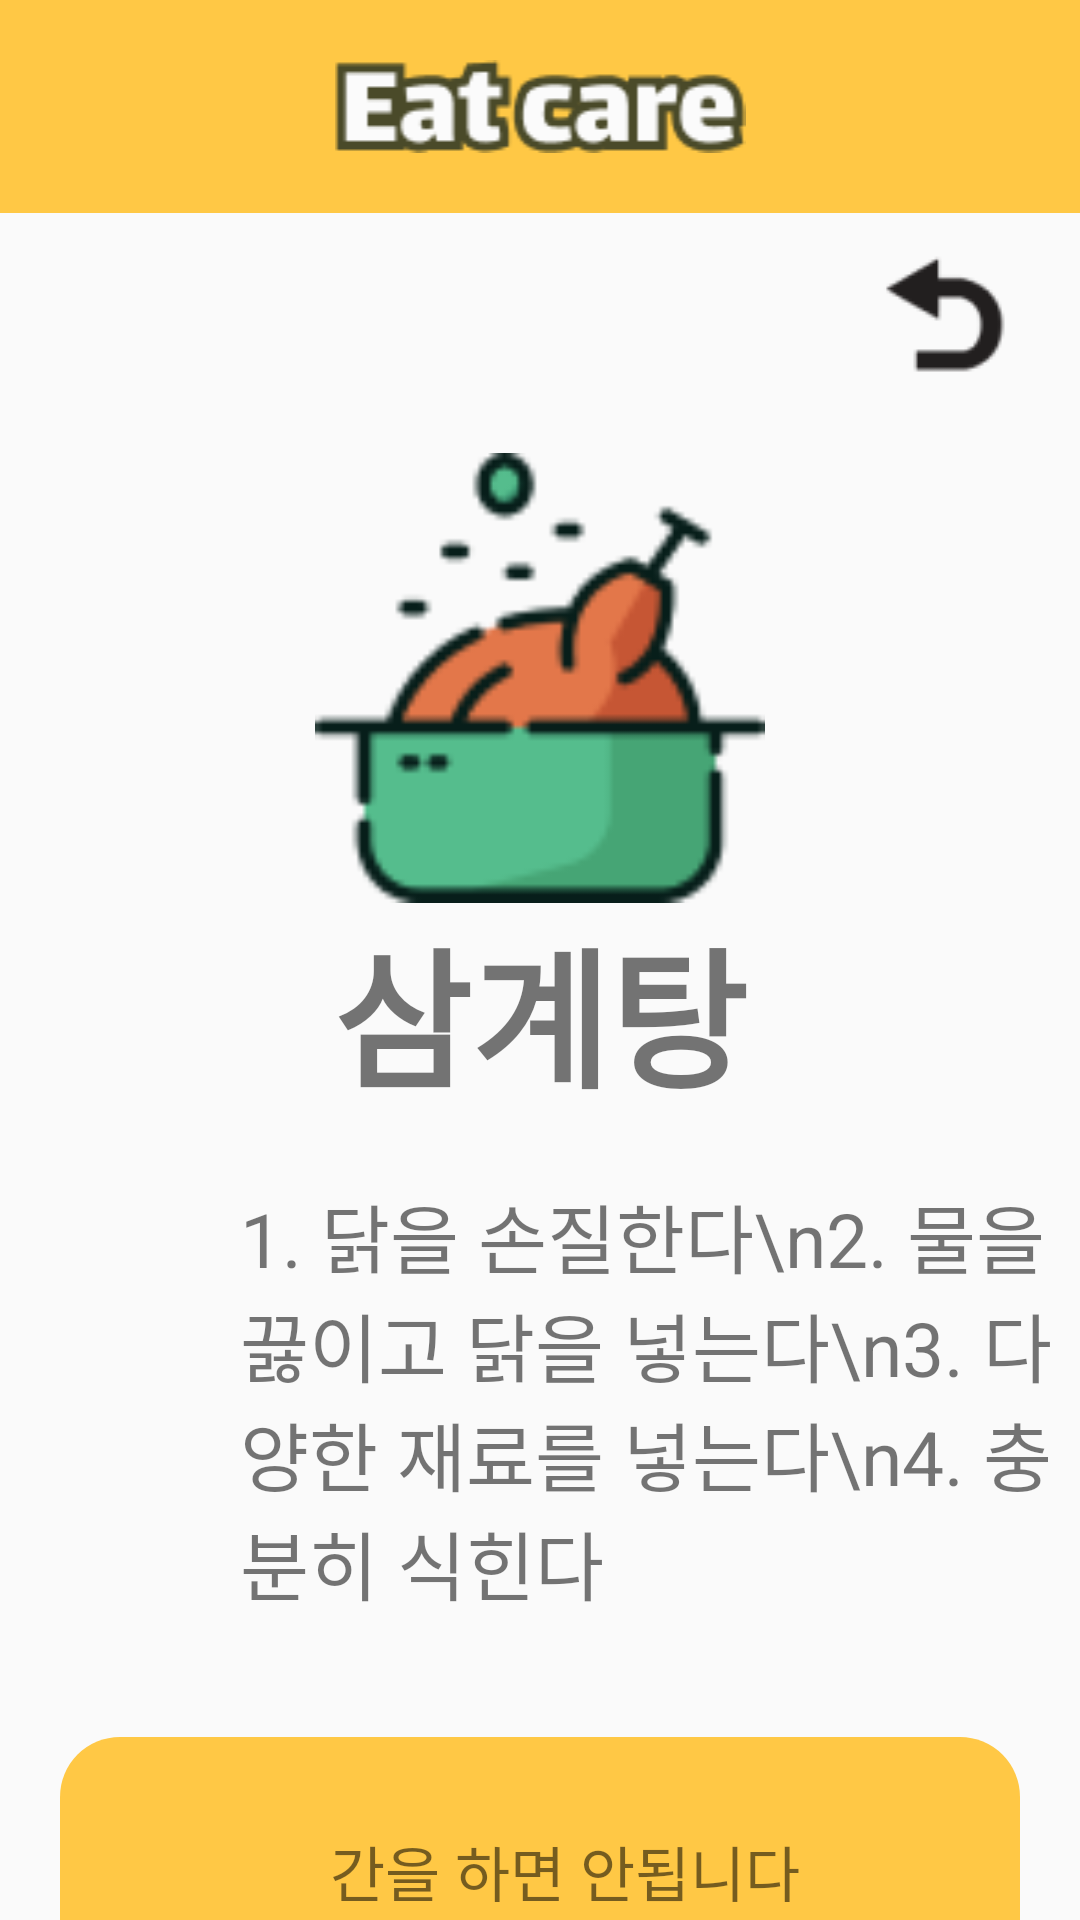

Where icons sit on this 1080×1920 app screen, as [left=x1, top=y1, right=x2, bottom=y2]:
back: [left=886, top=258, right=1005, bottom=372]
